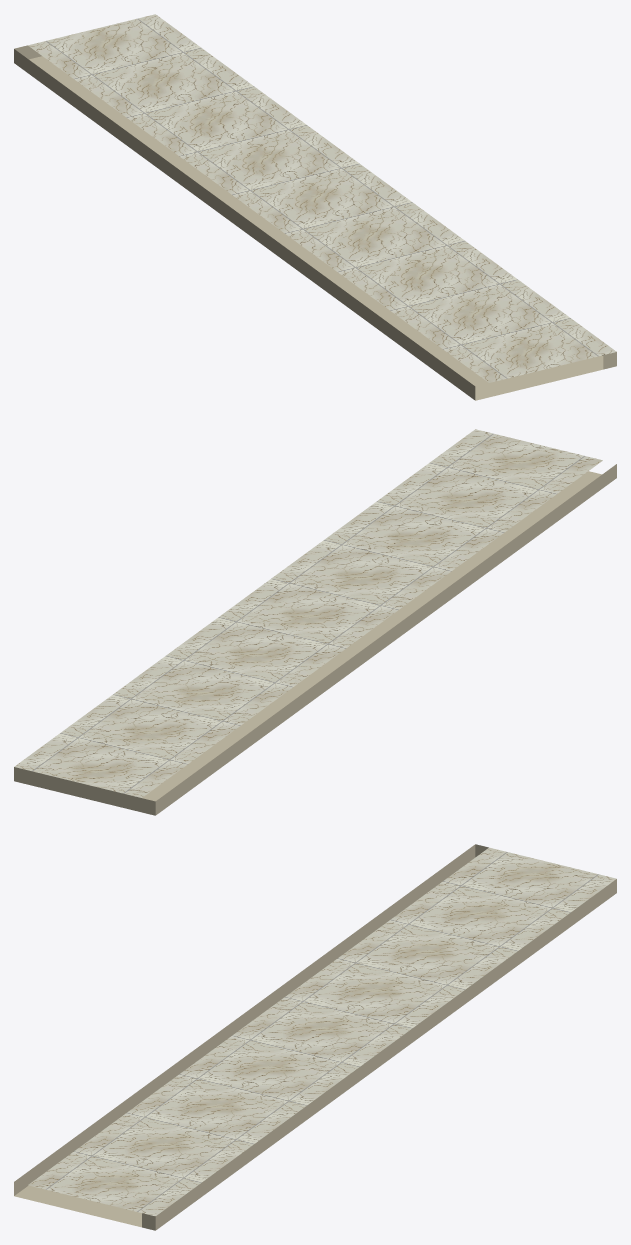
The model's file is FrontBalcony.obj.
3 views of the same model, one above another, from view 1: azimuth 30°, elevation 25°; view 2: azimuth 150°, elevation 25°; view 3: azimuth 330°, elevation 25° (orthographic).
Parts seen in each view (by area): view 1: Box011; view 2: Box011; view 3: Box011.
Part boxes in pixels (bbox=[...]): Box011: bbox=[14, 14, 616, 400]; Box011: bbox=[14, 429, 616, 815]; Box011: bbox=[14, 844, 616, 1230].
Bounding box in the file's own units: 122 × 11.81 × 689.
